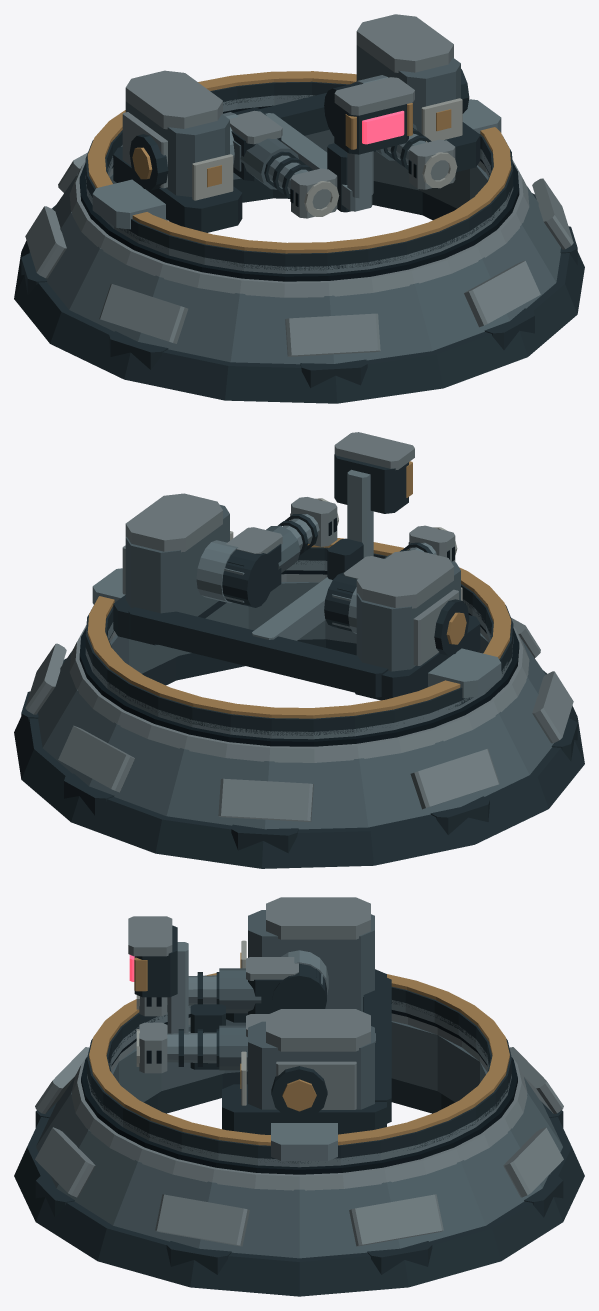
The model's file is heavy-turret.glb.
3 views of the same model, one above another, from view 1: azimuth 30°, elevation 25°; view 2: azimuth 150°, elevation 25°; view 3: azimuth 270°, elevation 25° (orthographic).
Visible parts, largest first — view 1: foundation, dome, weapon-L, weapon-R, charge-lens; view 2: foundation, dome, weapon-R, weapon-L; view 3: foundation, dome, weapon-L, weapon-R.
Boxes of the visible parts, left/top/right/bottom form: foundation: left=14, top=95, right=584, bottom=403; dome: left=85, top=14, right=513, bottom=270; weapon-L: left=229, top=107, right=339, bottom=218; weapon-R: left=324, top=82, right=457, bottom=189; charge-lens: left=362, top=110, right=404, bottom=144; foundation: left=14, top=560, right=584, bottom=868; dome: left=85, top=432, right=513, bottom=735; weapon-R: left=222, top=497, right=338, bottom=607; weapon-L: left=324, top=525, right=457, bottom=631; foundation: left=14, top=1000, right=584, bottom=1296; dome: left=87, top=897, right=511, bottom=1163; weapon-L: left=136, top=957, right=326, bottom=1016; weapon-R: left=136, top=1014, right=268, bottom=1073.
Size of the model in its own units: 5.7 by 2.69 by 5.7.
